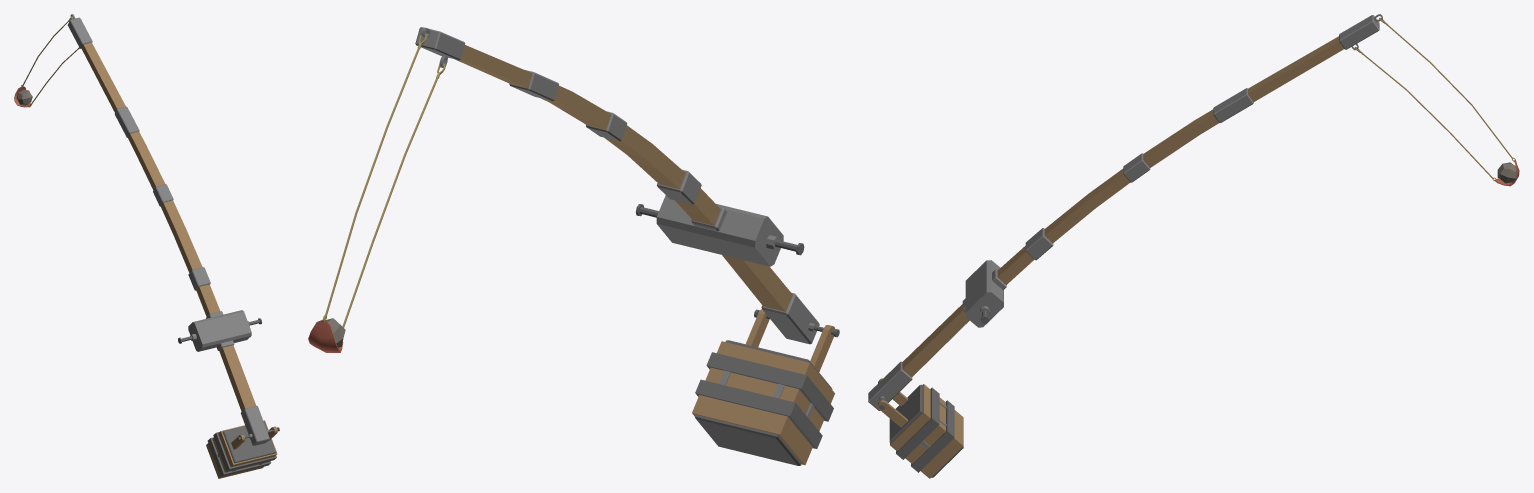
Rendered from Trebuchet_Arm_Pose_02.fbx.
The picture shows the model from 3 angles, left to right: view 1: azimuth 30°, elevation 25°; view 2: azimuth 150°, elevation 25°; view 3: azimuth 270°, elevation 25°; orthographic projection. The views are drawn at different scales.
Parts seen in each view (by area): view 1: Trebuchet_Arm_Pose_02; view 2: Trebuchet_Arm_Pose_02; view 3: Trebuchet_Arm_Pose_02.
Part boxes in pixels (x1,y1,x2,y2): Trebuchet_Arm_Pose_02: [14, 14, 279, 478]; Trebuchet_Arm_Pose_02: [308, 27, 839, 465]; Trebuchet_Arm_Pose_02: [868, 14, 1519, 478].
Size of the model in its own units: 74.36 by 294 by 386.
